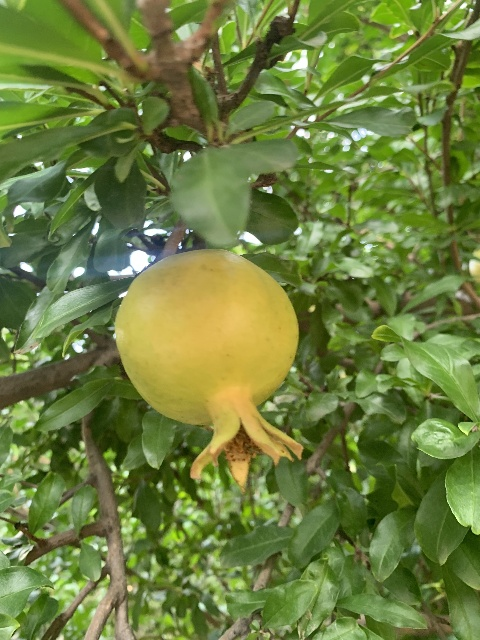mid-growth: (114, 249, 304, 495)
